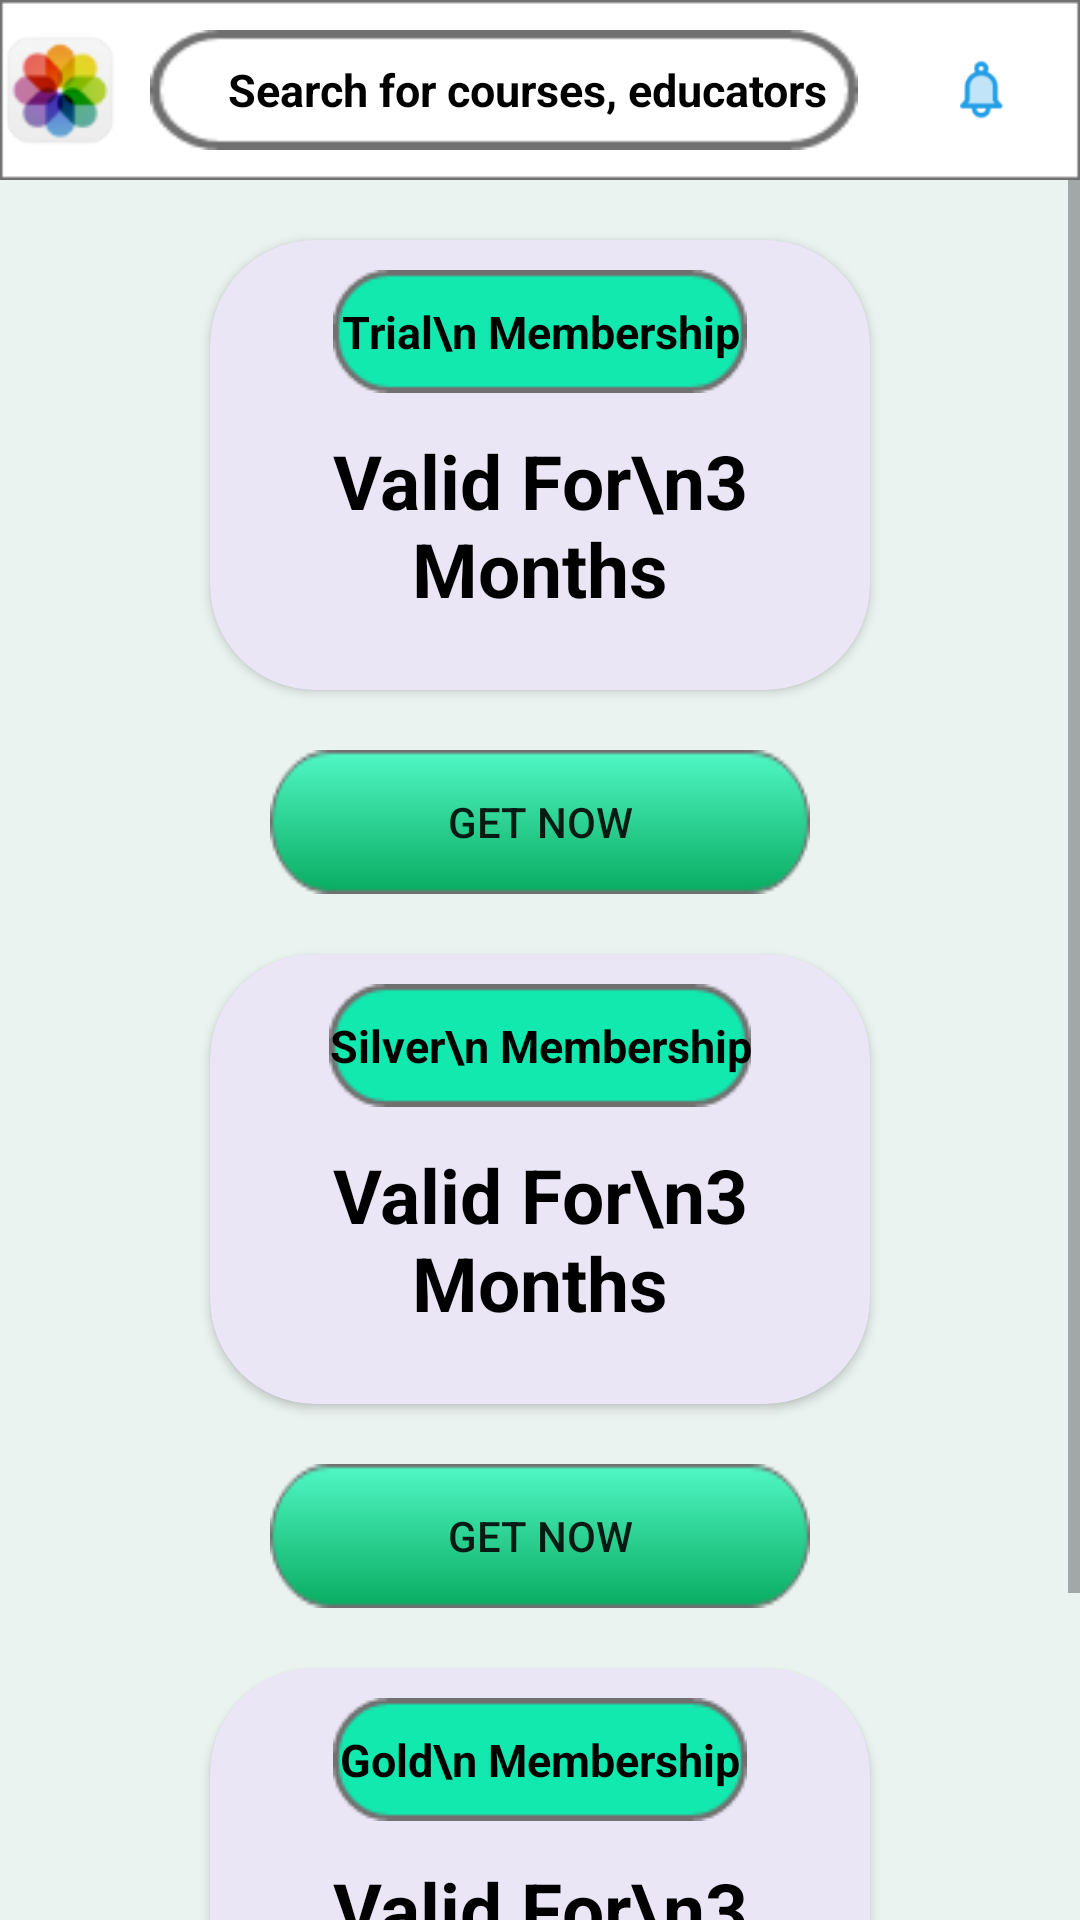

Named icons in this screenshot (1080 × 1920) and their bounding boxes, (x1, y1, x2, y2):
bell: (960, 60, 1003, 119)
